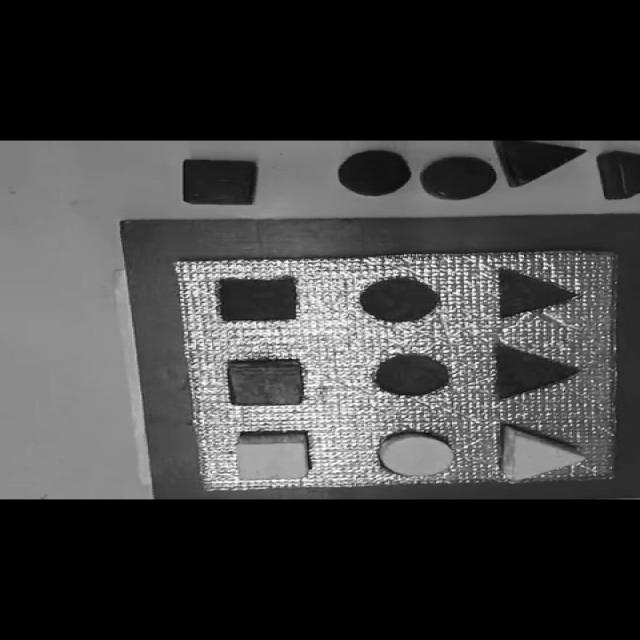bcircle: (337, 150, 413, 197)
bcube: (180, 159, 260, 206)
btriangle: (494, 141, 588, 188)
mtcircle: (358, 276, 442, 323), (370, 352, 453, 397)
mtcube: (216, 277, 301, 323)
mttriangle: (492, 342, 580, 401), (496, 268, 580, 319)
rcircle: (419, 157, 496, 200)
rcube: (225, 359, 306, 406)
rtriangle: (597, 152, 639, 200)
wb: (172, 249, 622, 490)
ycircle: (377, 431, 457, 476)
ycube: (234, 430, 312, 480), (501, 428, 519, 478)
ytriangle: (498, 425, 586, 481)
